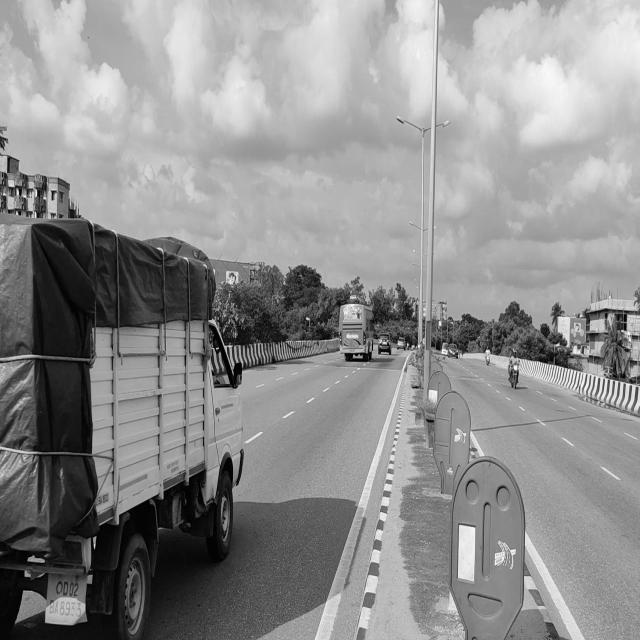bike: (501, 338, 524, 405)
bus: (323, 290, 379, 375)
car: (373, 316, 397, 363)
license-plate: (44, 561, 94, 624)
truck: (0, 205, 251, 640)
